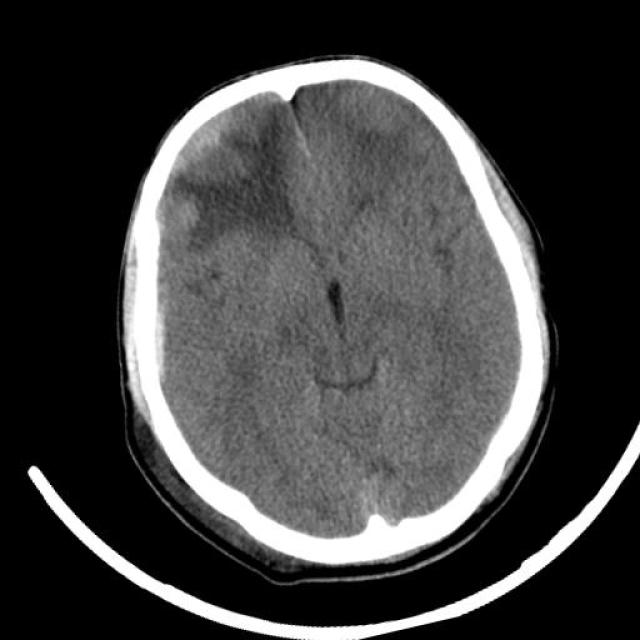Subdural: (82, 247, 210, 417)
